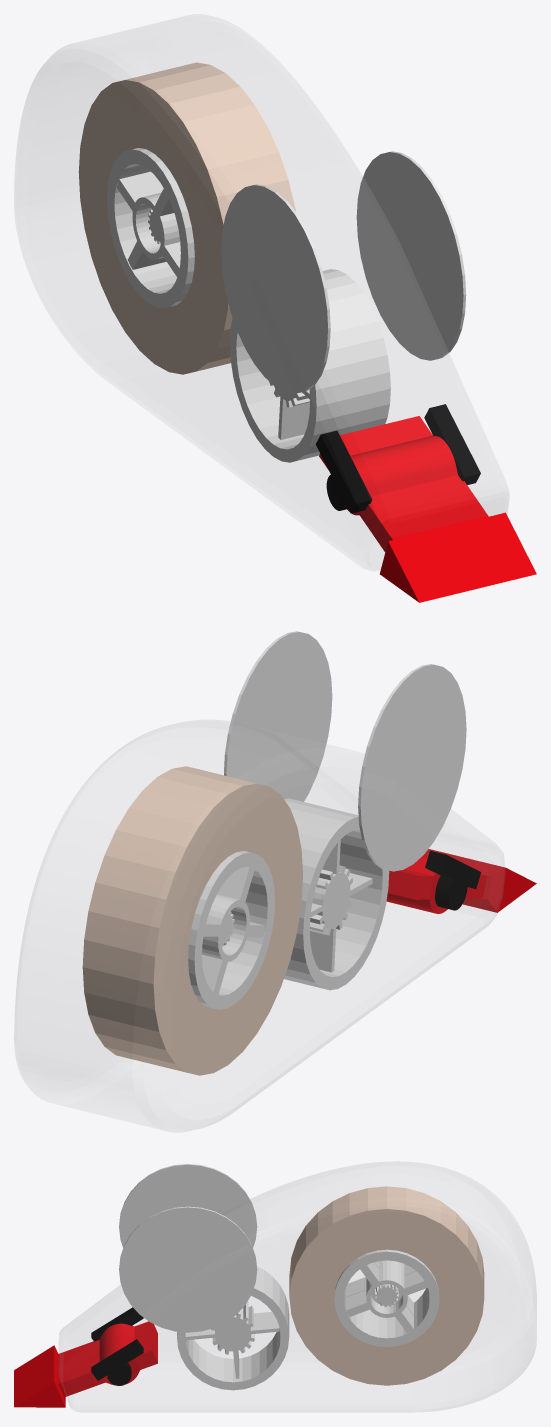
Rendered from souris.fbx.
The picture shows the model from 3 angles, top to bottom: view 1: azimuth 30°, elevation 25°; view 2: azimuth 150°, elevation 25°; view 3: azimuth 270°, elevation 25°; orthographic projection. The views are drawn at different scales.
Parts seen in each view (by area): view 1: Cube, Cylinder.008, Cylinder.009, Cube.001, Cylinder.007, Cube.002; view 2: Cube, Cylinder.008, Cylinder.009, Cylinder.007, Cube.001, Cube.002, Cylinder.010; view 3: Cube, Cylinder.008, Cylinder.009, Cylinder.007, Cube.001, Cube.002, Cylinder.010.
Boxes of the visible parts, x1,y1,x2,y2 form: Cube: [14, 14, 508, 570]; Cylinder.008: [78, 62, 295, 374]; Cylinder.009: [221, 151, 466, 393]; Cube.001: [319, 416, 536, 602]; Cylinder.007: [230, 269, 390, 462]; Cube.002: [315, 404, 480, 513]; Cube: [14, 720, 504, 1131]; Cylinder.008: [82, 766, 302, 1075]; Cylinder.009: [224, 631, 466, 871]; Cylinder.007: [284, 798, 389, 990]; Cube.001: [386, 849, 536, 913]; Cube.002: [425, 850, 481, 888]; Cylinder.010: [435, 875, 467, 910]; Cube: [59, 1162, 536, 1411]; Cylinder.008: [289, 1186, 484, 1385]; Cylinder.009: [119, 1164, 257, 1332]; Cylinder.007: [177, 1266, 289, 1390]; Cube.001: [14, 1321, 157, 1407]; Cube.002: [91, 1307, 143, 1380]; Cylinder.010: [107, 1363, 131, 1385].
Bounding box in the file's own units: 28.39 × 63.2 × 140.
